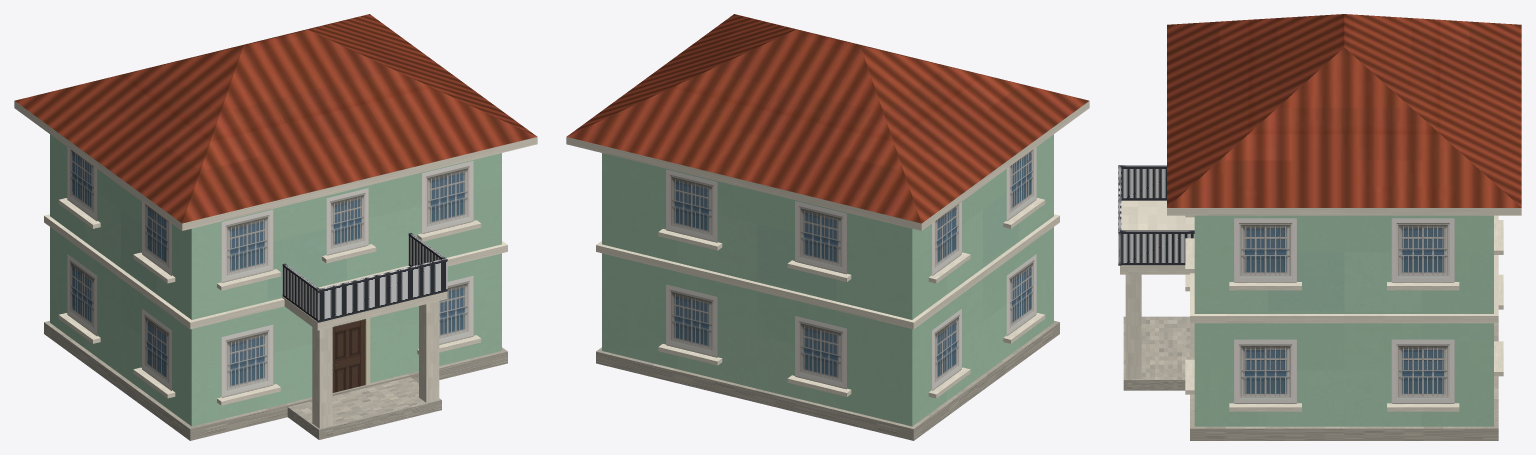
The model's file is house2-mint.glb.
The picture shows the model from 3 angles, left to right: view 1: azimuth 30°, elevation 25°; view 2: azimuth 150°, elevation 25°; view 3: azimuth 270°, elevation 25°; orthographic projection. The views are drawn at different scales.
Visible parts, largest first — view 1: house2-mint; view 2: house2-mint; view 3: house2-mint.
Boxes of the visible parts, x1,y1,x2,y2 form: house2-mint: (14,14,537,440); house2-mint: (566,14,1089,440); house2-mint: (1118,14,1521,440).
Size of the model in its own units: 11 by 9.2 by 10.24.
Materials: 1 (1 with a texture image).
